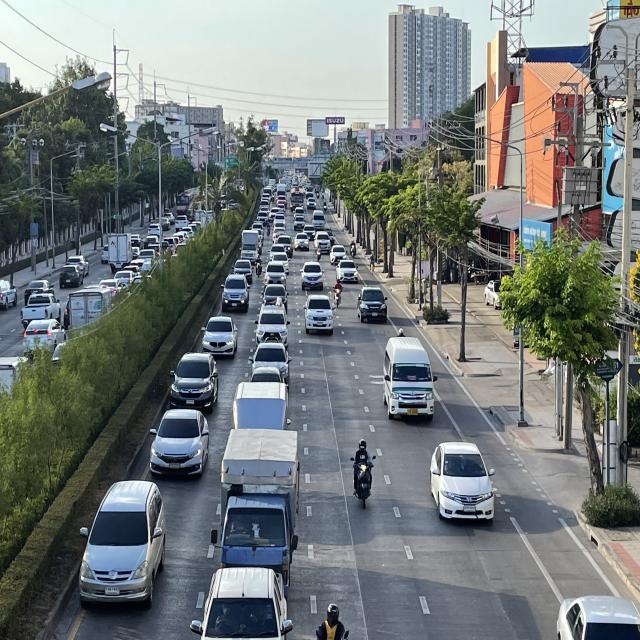bike: (348, 436, 378, 510), (312, 597, 348, 640), (332, 278, 342, 311)
car: (77, 479, 166, 610), (188, 566, 293, 640), (380, 332, 438, 426), (552, 593, 640, 640), (253, 303, 290, 349), (201, 316, 238, 360), (356, 282, 389, 326), (220, 272, 250, 312), (298, 260, 324, 290), (262, 284, 288, 312)
truck: (212, 428, 302, 589), (230, 382, 292, 439), (248, 342, 291, 391), (303, 289, 336, 337)
